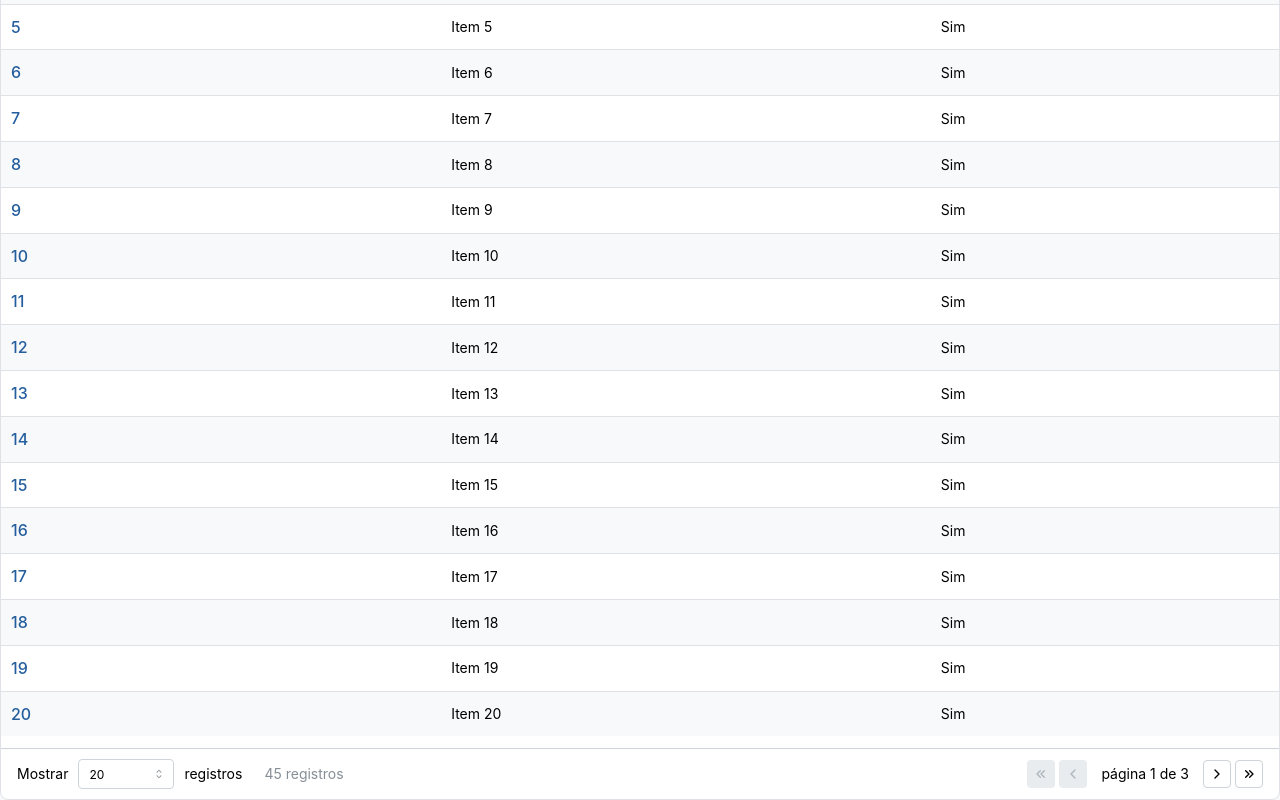
Scenario: <Listagem> › paginação Primeiro/Ant./Próx./Último e tamanho 20/25/35/50/Todos lembrado no navegador
(page scrolled)
Check: the text "página 1 de 3" is shown, box [1101,765,1189,782]
Check: the button named "Página anterior" is disabled, box [1059,760,1087,788]
Click the button named "Próxima página".
click(1217, 774)  # box [1203,760,1231,788]
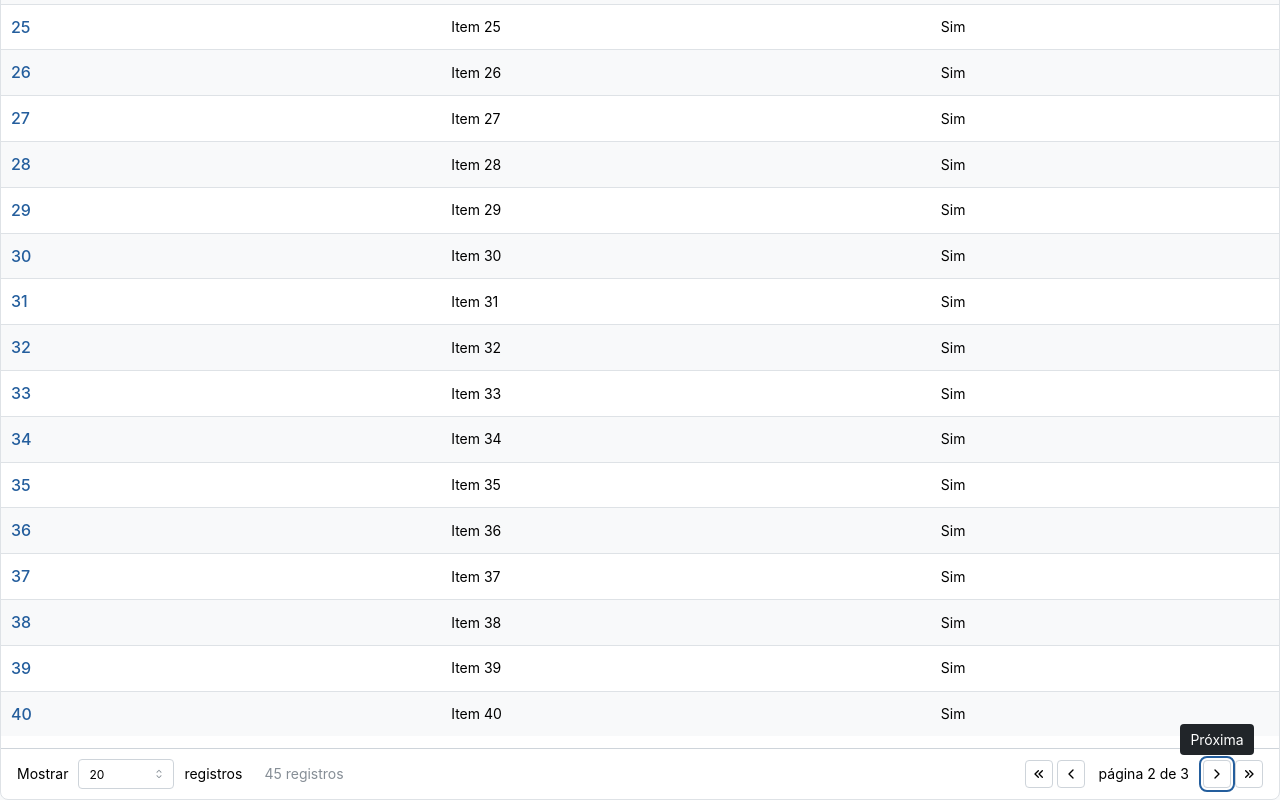
Click the button named "Última página".
click(1249, 774)  # box [1235,760,1263,788]
(page scrolled)
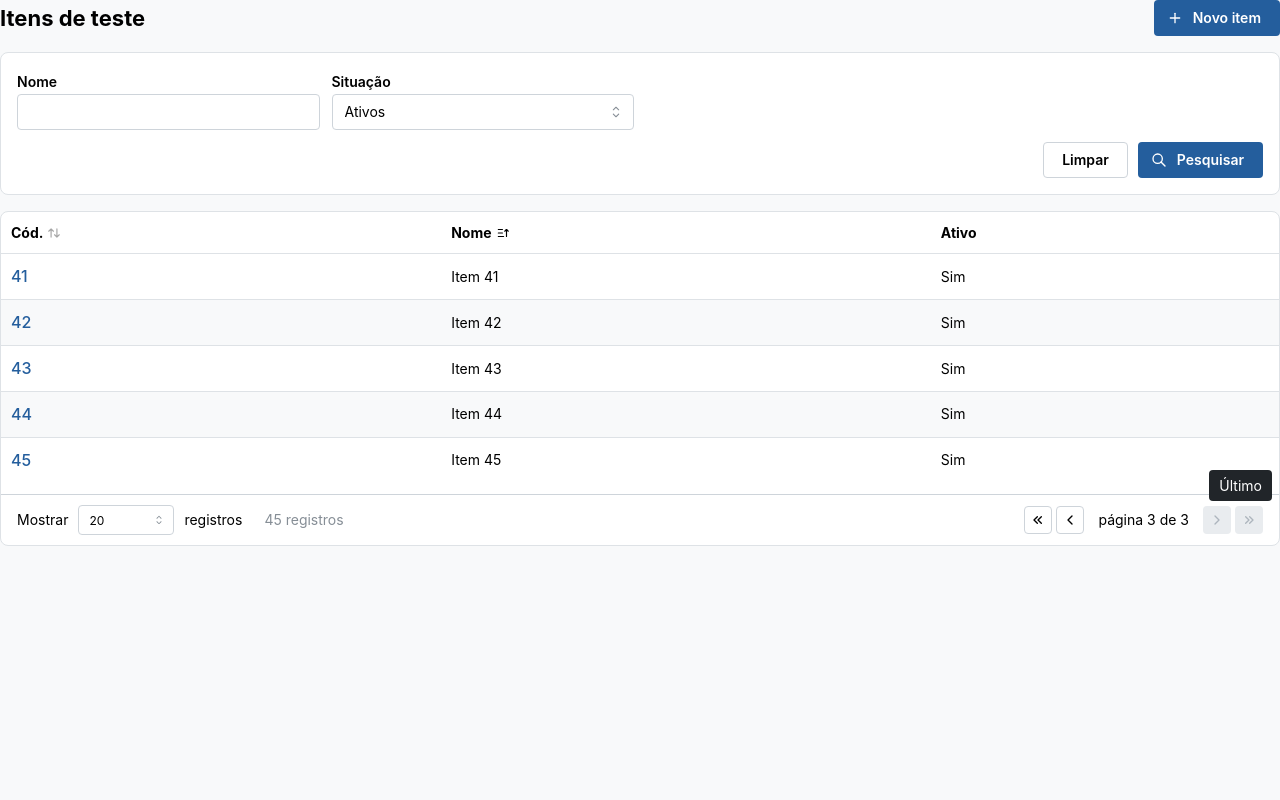
Check: the text "Item 45" is shown, box [441,437,931,482]
Click the dropdown named "Registros por página".
click(126, 520)  # box [78,506,174,536]
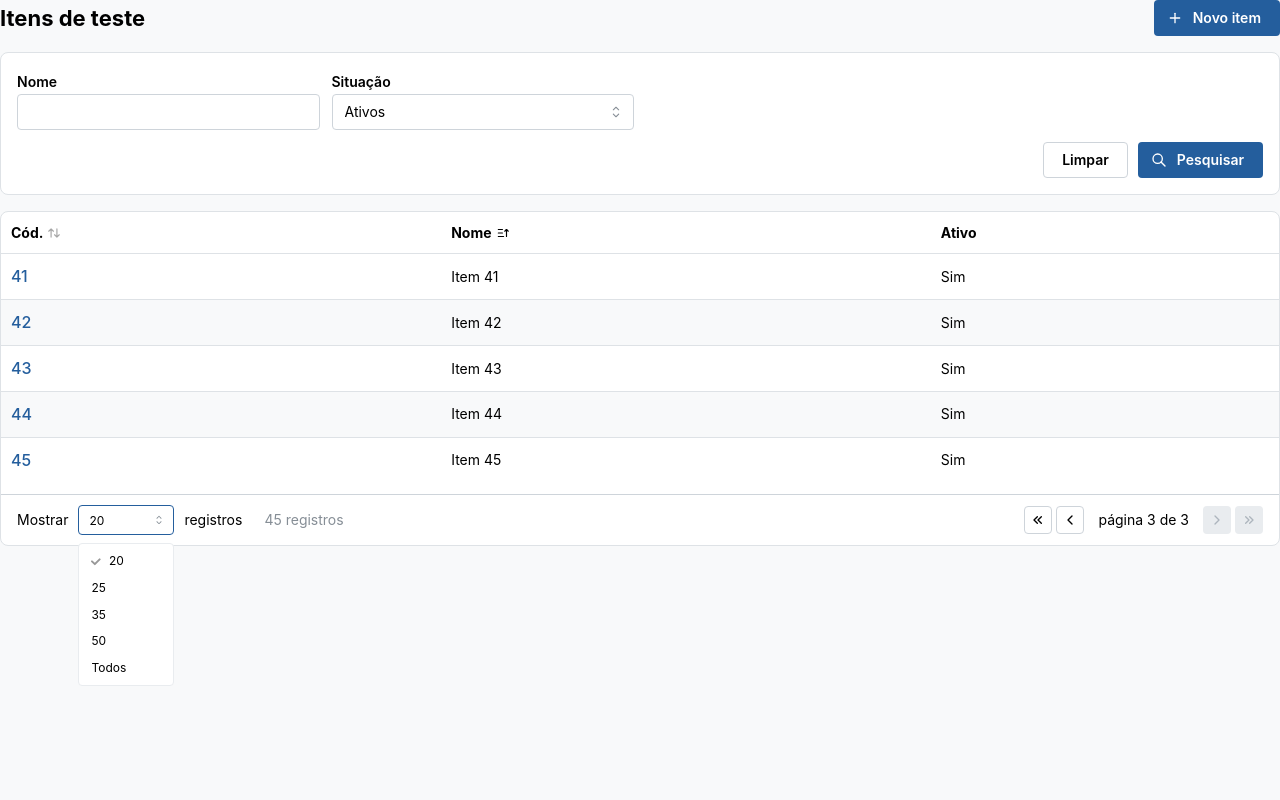
Check: the options read "20", "25", "35", "50", "Todos", in this order
Click the option "Todos".
click(109, 667)  # box [91,660,126,675]
(page scrolled)
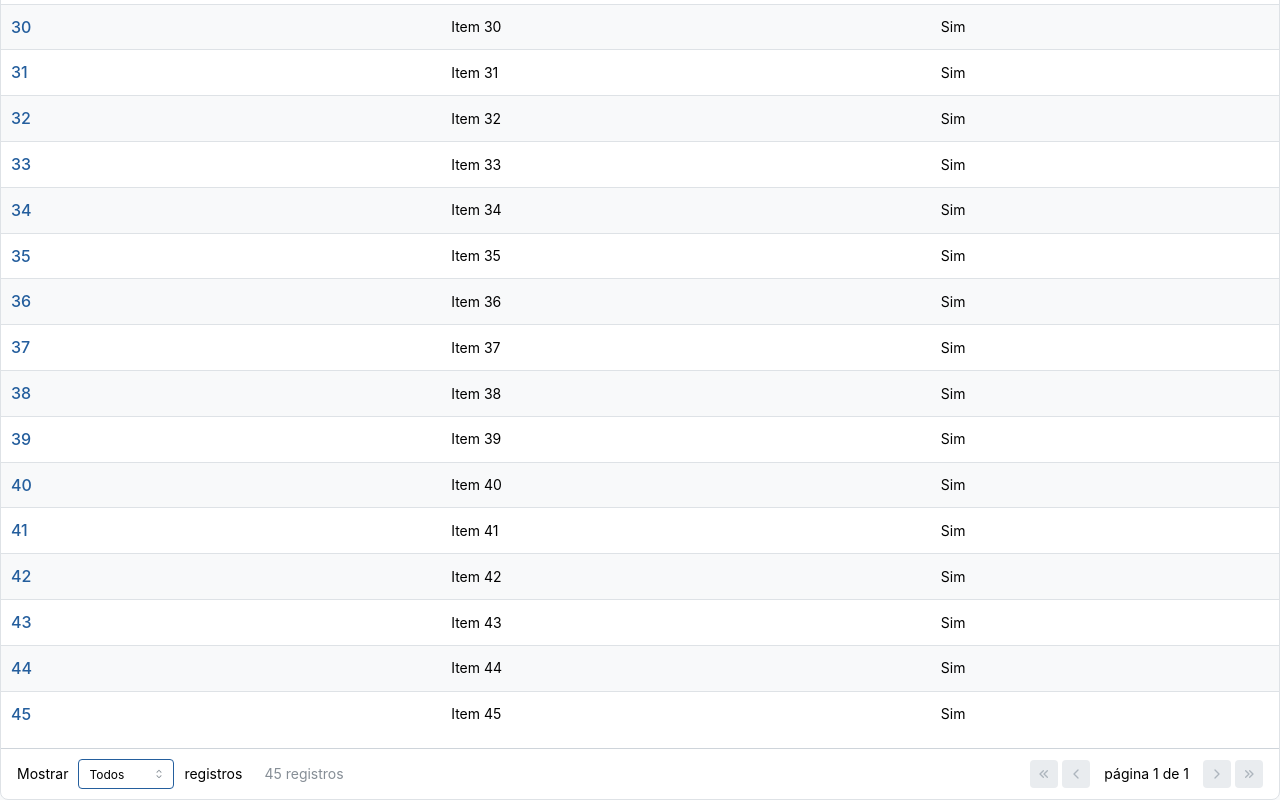
Check: the text "página 1 de 1" is shown, box [1104,765,1189,782]
